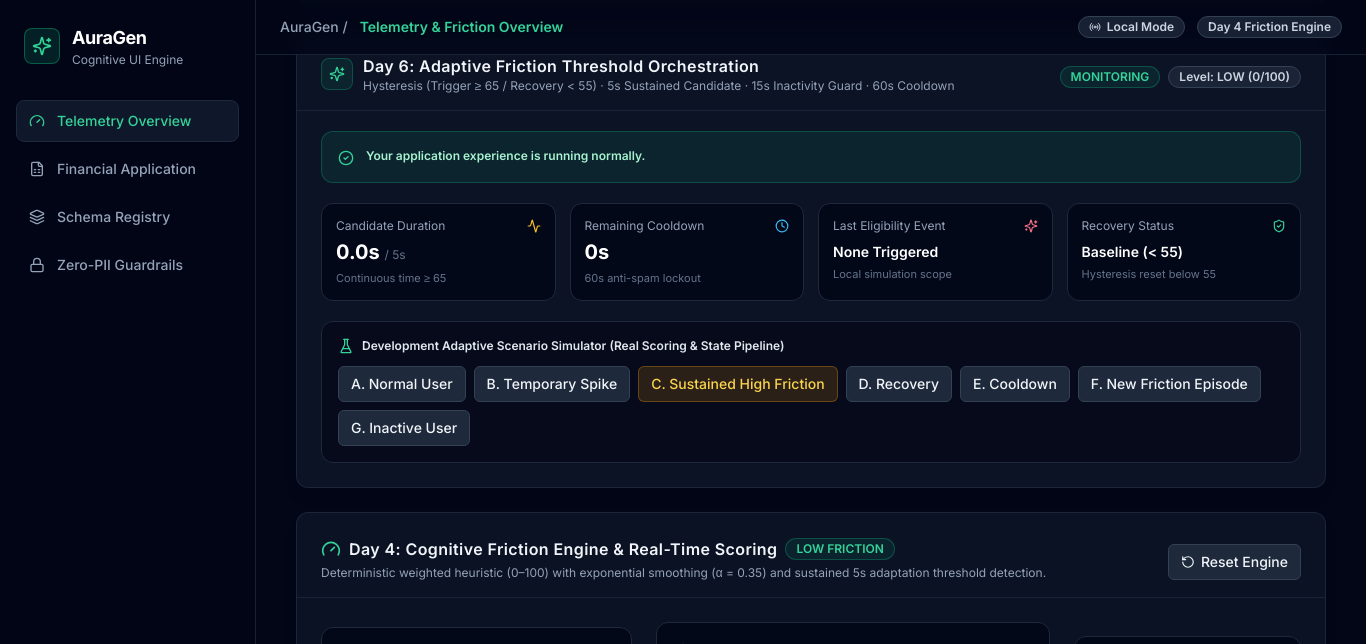
Test: Day 6: Frontend Adaptive Friction Threshold Orchestration Dashboard › runs development-only adaptive simulator scenarios through the real decision pipeline
(page scrolled)
Note: Scenario A: Normal User
Step 1. Click the button with test id "sim-adaptive-normal-btn" → (402, 384), box left=338, top=366, right=466, bottom=402
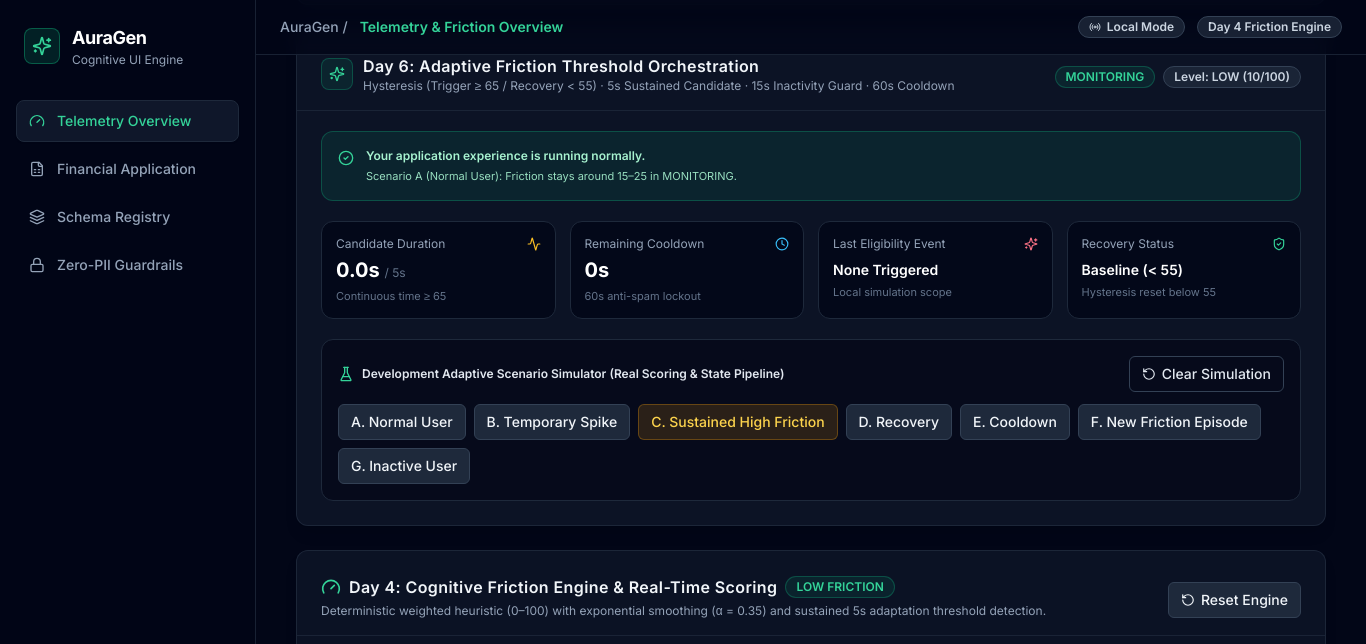
Expected: the text with test id "adaptive-state-badge" reads "MONITORING", left=1066, top=68, right=1144, bottom=84
Result: the text with test id "adaptive-sim-note" shows "Scenario A (Normal User)" at left=366, top=168, right=737, bottom=182
